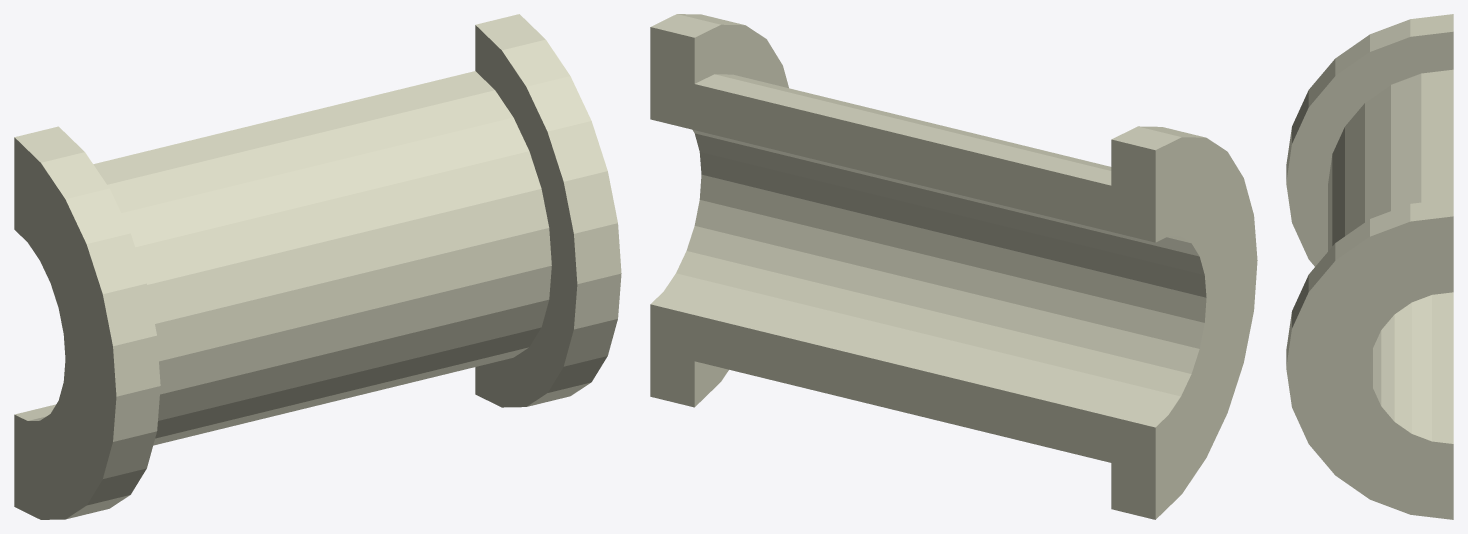
Rendered from section_013.obj.
The picture shows the model from 3 angles, left to right: view 1: azimuth 30°, elevation 25°; view 2: azimuth 150°, elevation 25°; view 3: azimuth 270°, elevation 25°; orthographic projection. The views are drawn at different scales.
Size of the model in its own units: 11.44 by 8 by 4.
